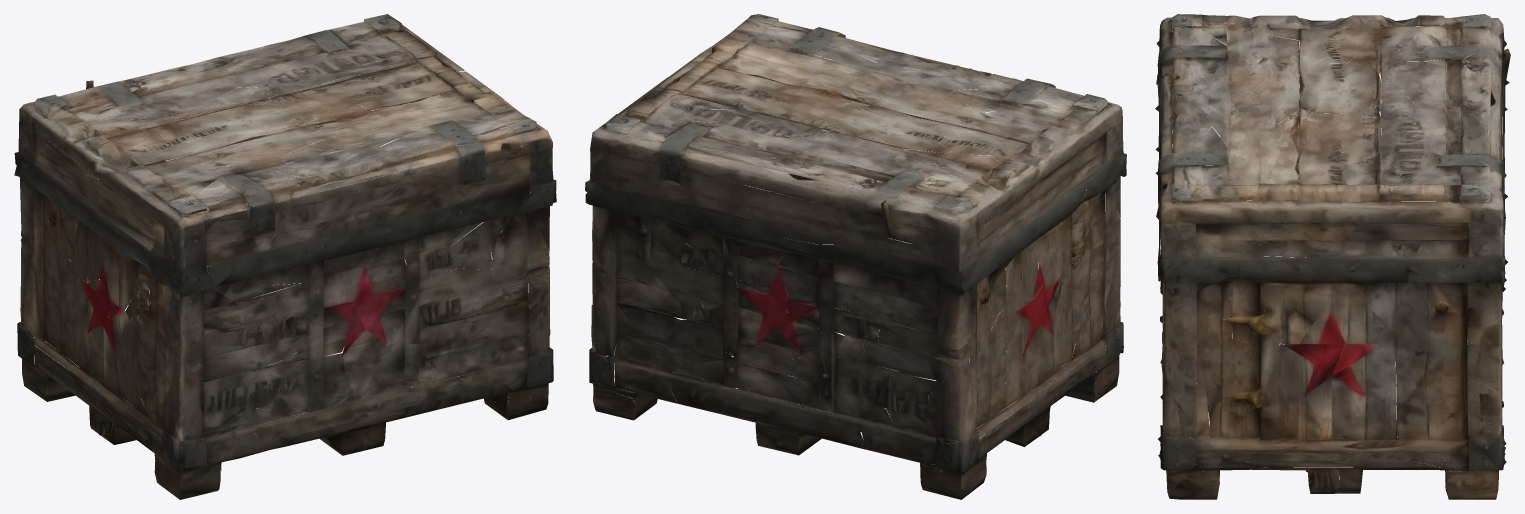
The model's file is crate.glb.
The picture shows the model from 3 angles, left to right: view 1: azimuth 30°, elevation 25°; view 2: azimuth 150°, elevation 25°; view 3: azimuth 270°, elevation 25°; orthographic projection. The views are drawn at different scales.
Parts seen in each view (by area): view 1: tripo_node_f2aaee82-322c-488b-9ff5-e7e0eb43b9f9; view 2: tripo_node_f2aaee82-322c-488b-9ff5-e7e0eb43b9f9; view 3: tripo_node_f2aaee82-322c-488b-9ff5-e7e0eb43b9f9.
Boxes of the visible parts, x1,y1,x2,y2 form: tripo_node_f2aaee82-322c-488b-9ff5-e7e0eb43b9f9: (14, 14, 556, 499); tripo_node_f2aaee82-322c-488b-9ff5-e7e0eb43b9f9: (585, 14, 1126, 499); tripo_node_f2aaee82-322c-488b-9ff5-e7e0eb43b9f9: (1155, 14, 1510, 499).
Size of the model in its own units: 1 by 0.7295 by 0.7726.
1 material, 1 textured.
